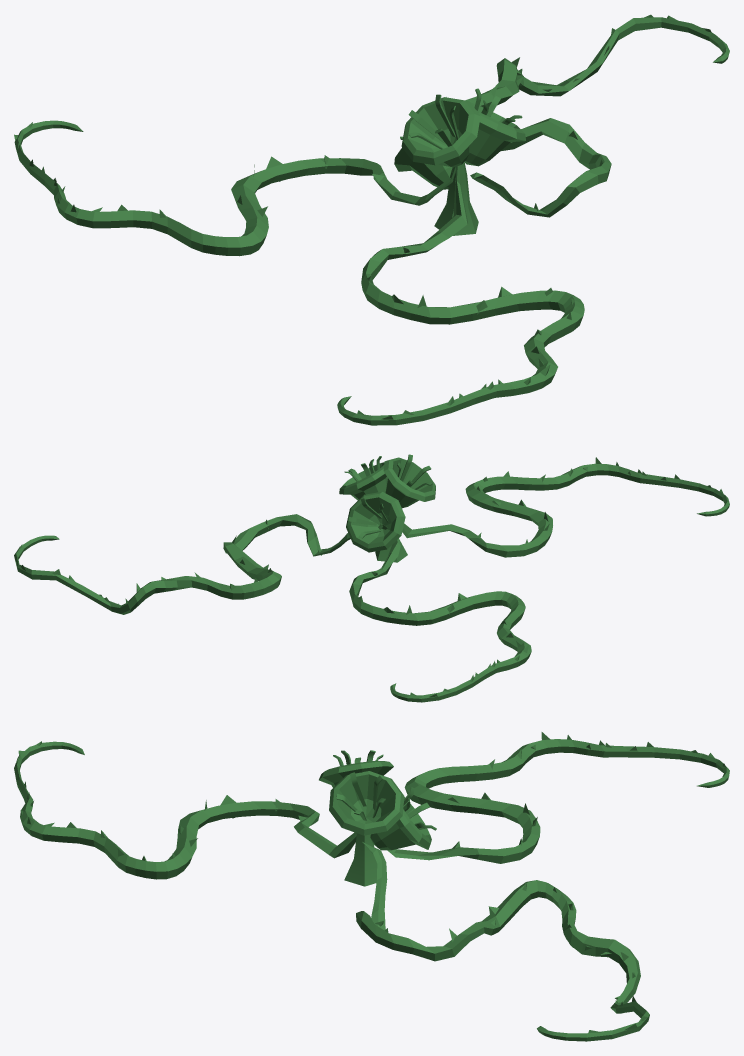
File: vine mutant plant.fbx
The picture shows the model from 3 angles, top to bottom: view 1: azimuth 30°, elevation 25°; view 2: azimuth 150°, elevation 25°; view 3: azimuth 270°, elevation 25°; orthographic projection. The views are drawn at different scales.
Visible parts, largest first — view 1: polySurface475; view 2: polySurface475; view 3: polySurface475.
Boxes of the visible parts, bbox=[...] form: polySurface475: bbox=[14, 14, 729, 425]; polySurface475: bbox=[14, 454, 729, 702]; polySurface475: bbox=[14, 732, 729, 1041].
Bounding box in the file's own units: 38.95 × 9.05 × 39.76.
